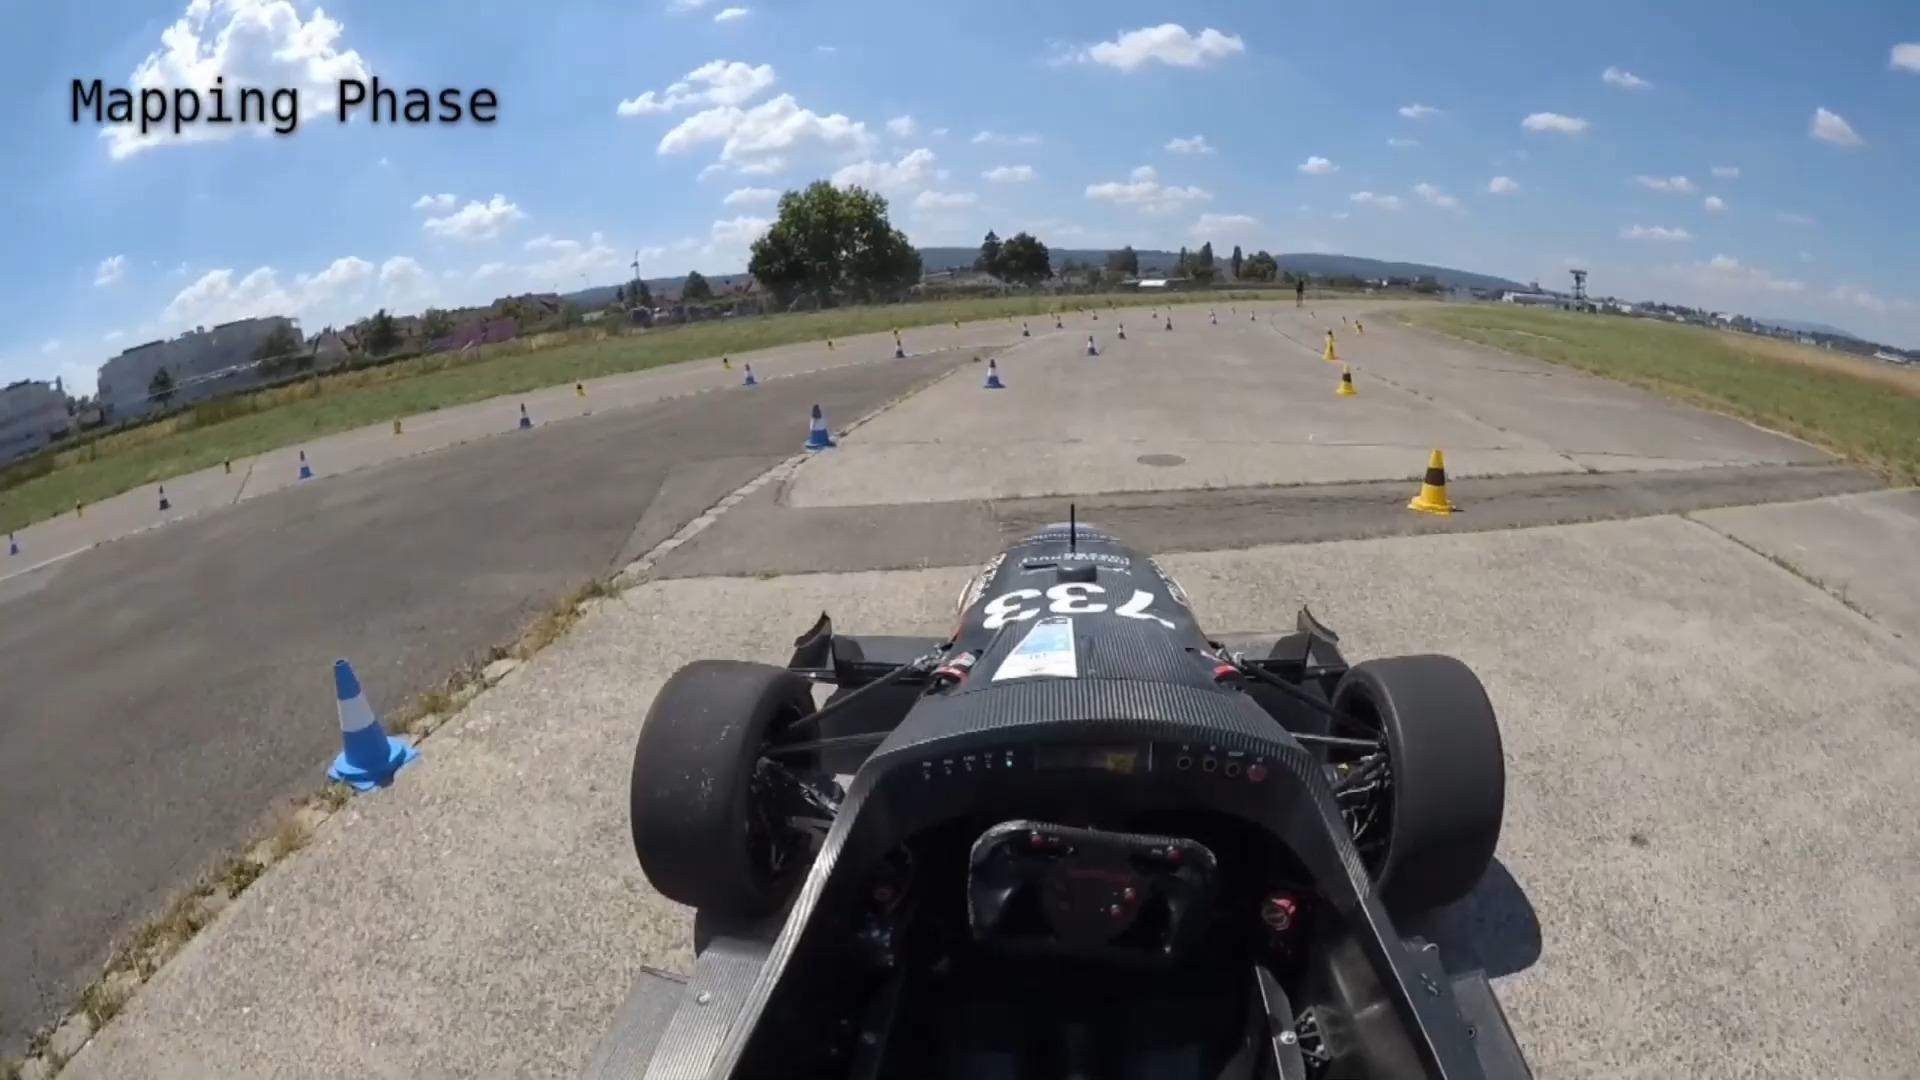blue_cone: (315, 651, 424, 794), (801, 402, 839, 452), (980, 358, 1006, 391), (294, 446, 318, 481), (4, 527, 23, 561), (740, 361, 759, 388), (518, 402, 535, 430), (1083, 332, 1101, 357)
yellow_cone: (1404, 439, 1463, 517), (1335, 362, 1357, 400), (1322, 337, 1339, 362)
